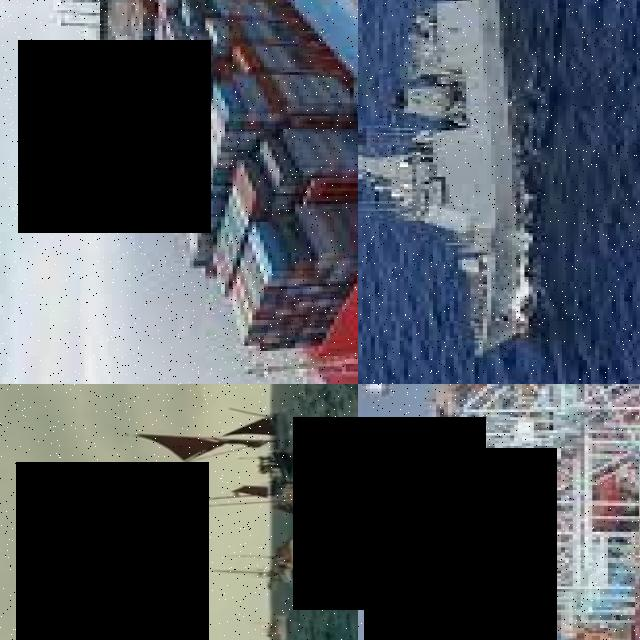boat: (261, 458, 339, 519), (231, 385, 325, 402)
cargo ship: (15, 1, 359, 385)
sailing boat: (129, 401, 295, 473)
warship: (359, 1, 555, 363), (359, 1, 420, 175)
